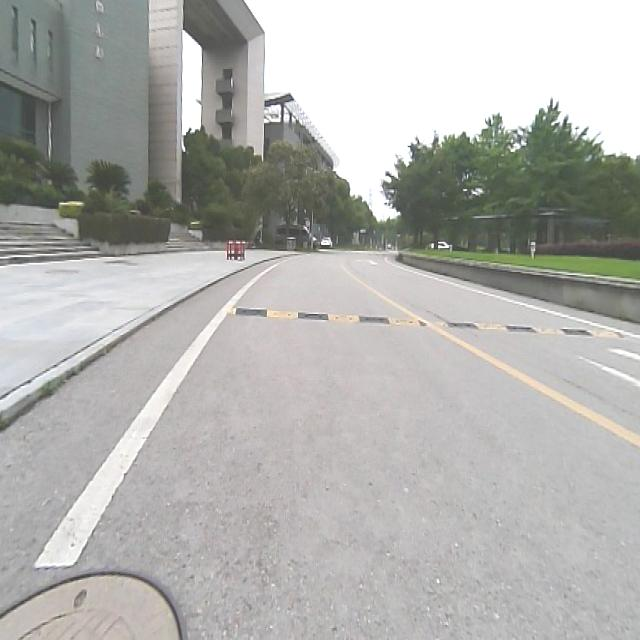Speed Bump: (226, 301, 630, 341)
